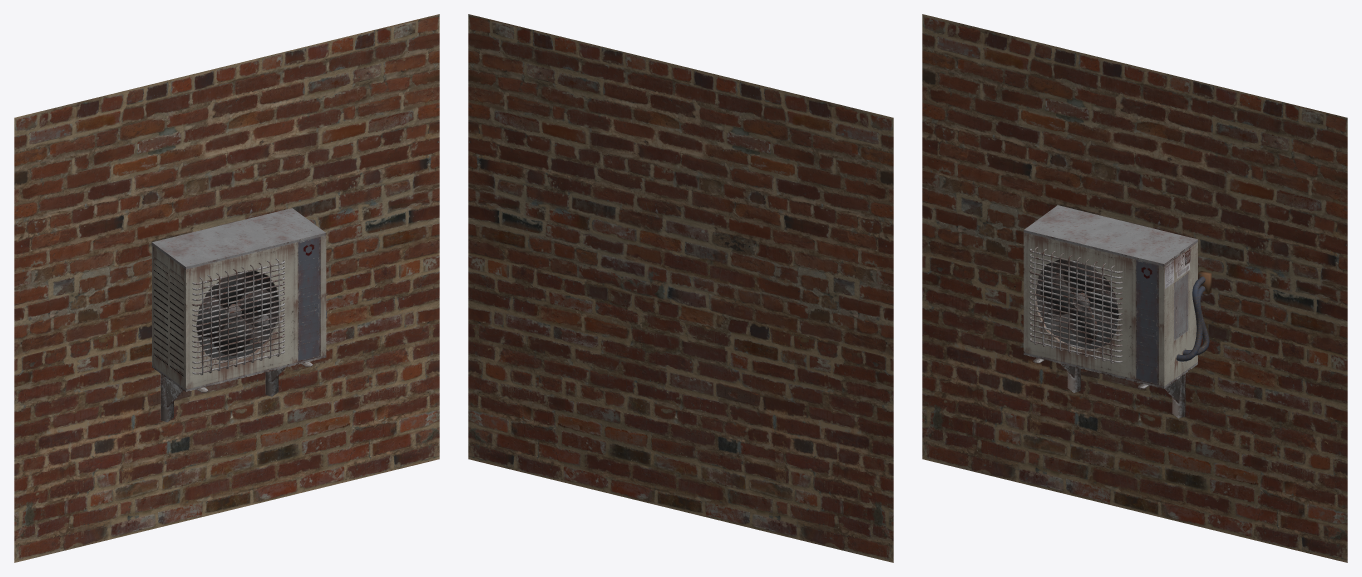
The picture shows the model from 3 angles, left to right: view 1: azimuth 30°, elevation 25°; view 2: azimuth 150°, elevation 25°; view 3: azimuth 330°, elevation 25°; orthographic projection.
Parts seen in each view (by area): view 1: Plane, conditioner, propeller, wall stand; view 2: Plane; view 3: Plane, conditioner, propeller, wall stand.
Part boxes in pixels (x1=…): Plane: x1=14, y1=14, x2=439, y2=562; conditioner: x1=152, y1=208, x2=326, y2=391; propeller: x1=196, y1=271, x2=274, y2=356; wall stand: x1=160, y1=362, x2=312, y2=422; Plane: x1=468, y1=14, x2=893, y2=562; Plane: x1=922, y1=14, x2=1347, y2=562; conditioner: x1=1023, y1=205, x2=1211, y2=388; propeller: x1=1040, y1=260, x2=1118, y2=345; wall stand: x1=1033, y1=358, x2=1185, y2=418.
Bounding box in the file's own units: 748 × 748 × 120.
Materials: 2 (2 with a texture image).
